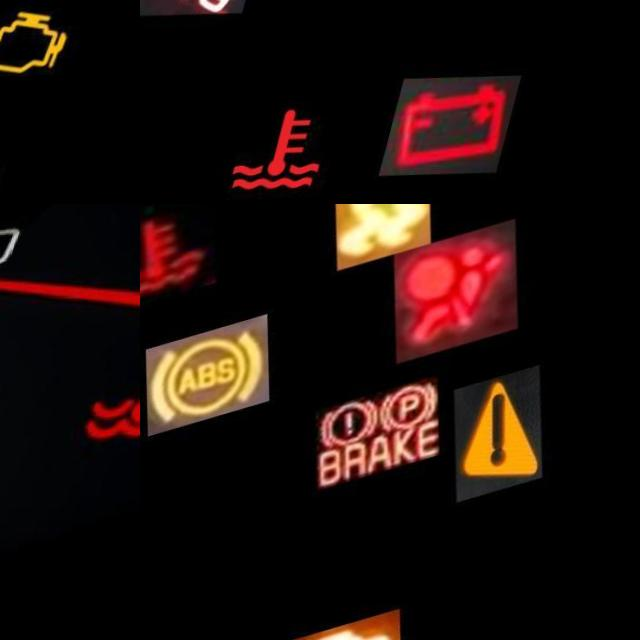Central Warning lamp: (445, 369, 582, 507)
Engine cooling system: (232, 90, 376, 204), (140, 204, 241, 319), (69, 322, 140, 469)
